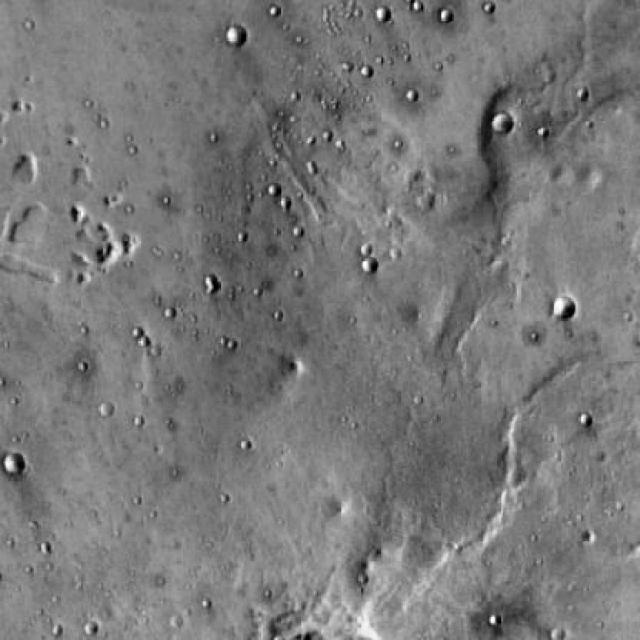crater: (551, 296, 578, 322), (225, 22, 248, 46), (490, 114, 512, 135), (0, 454, 23, 474), (96, 403, 113, 420), (360, 258, 378, 274), (374, 5, 392, 20)
